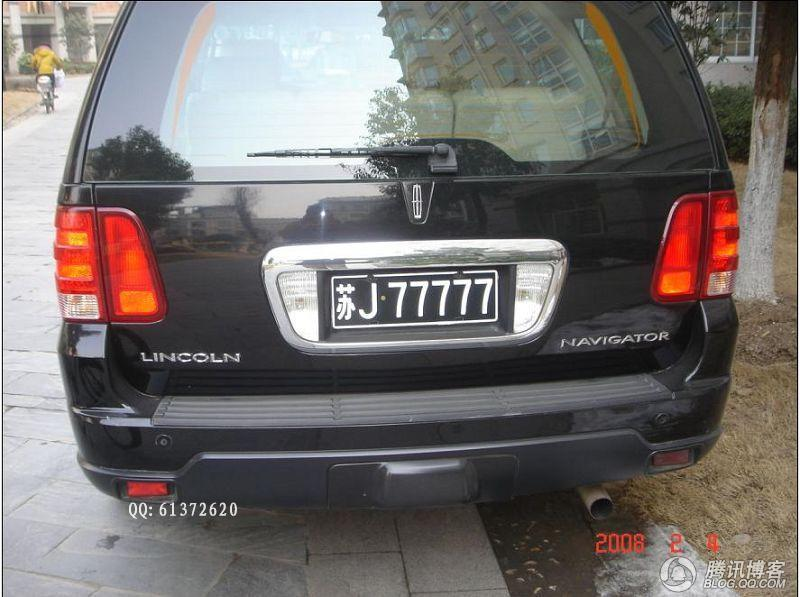plate_number: (330, 272, 498, 328)
